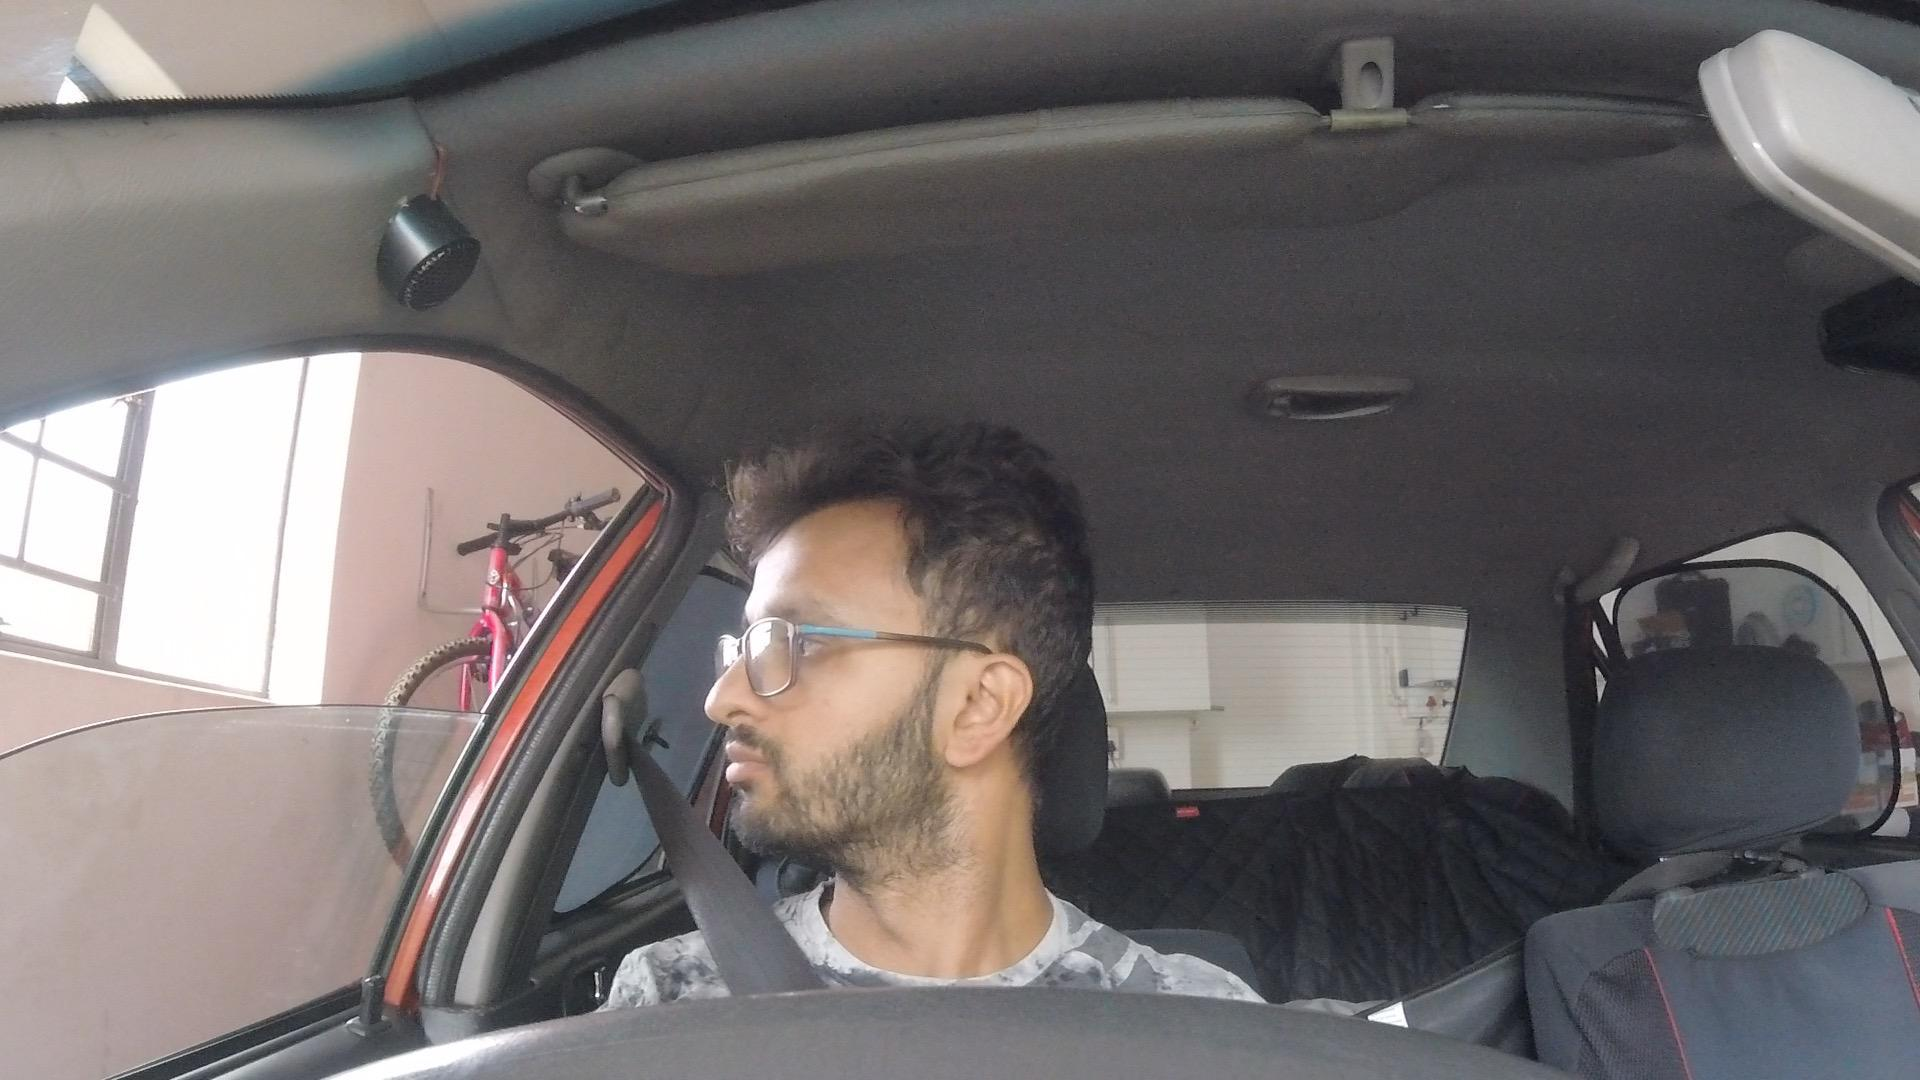SafeDriving: (704, 419, 1098, 874)
